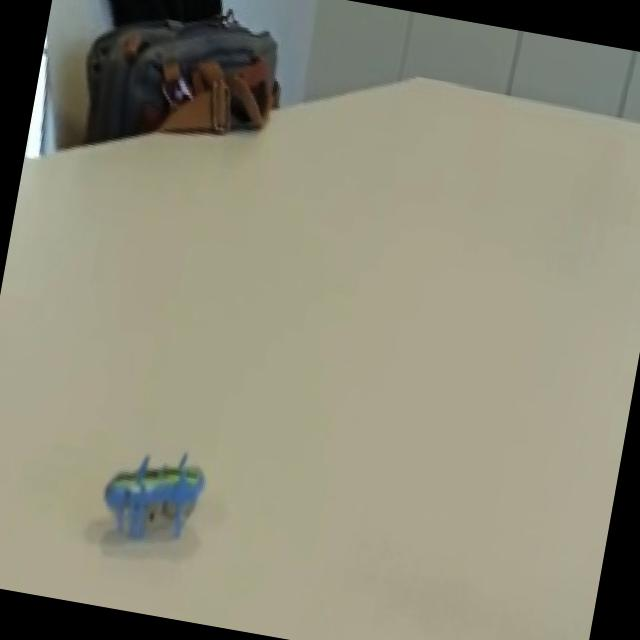3_NanoBug_Celeste: (73, 423, 230, 577)
